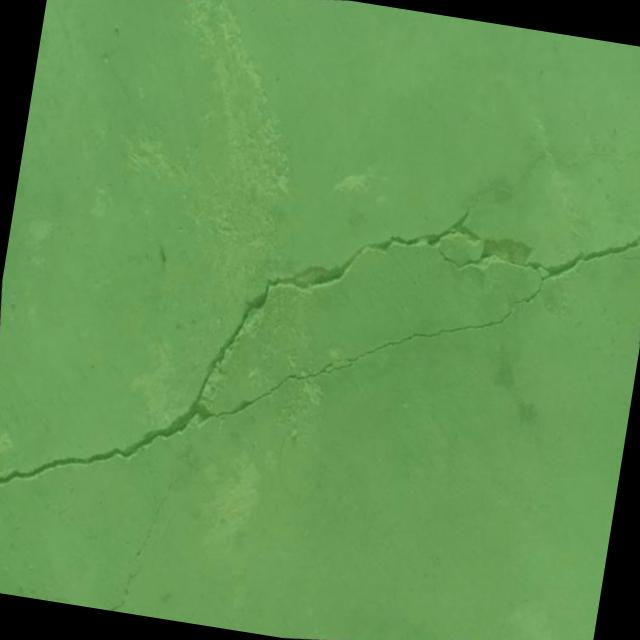crack: (0, 37, 640, 584), (112, 436, 207, 596), (22, 574, 132, 614), (0, 578, 41, 600), (623, 253, 640, 264)
